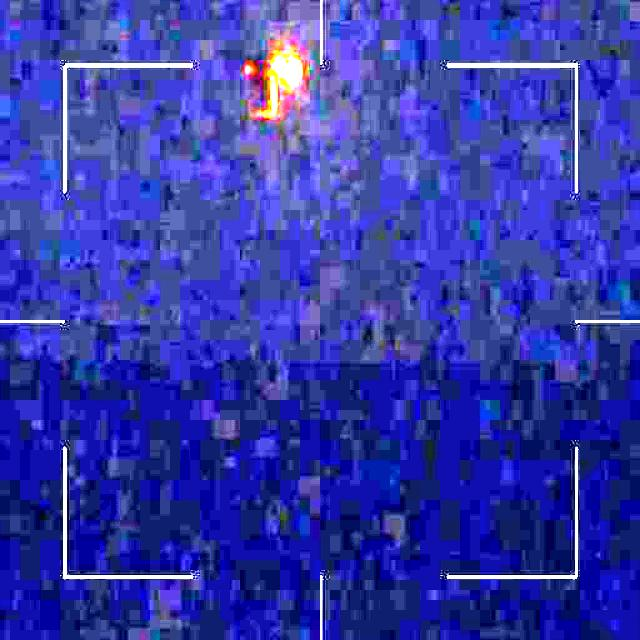bird: (230, 38, 302, 131)
